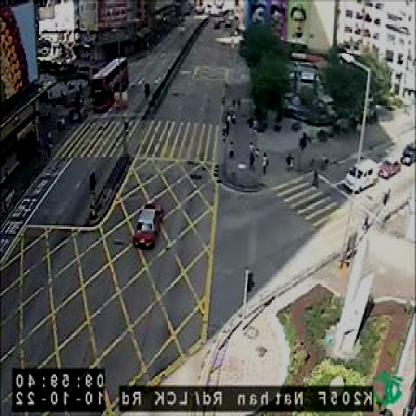Bus: (90, 54, 129, 113)
Car: (131, 202, 163, 252), (344, 161, 376, 191), (381, 155, 399, 176), (403, 143, 416, 164)
